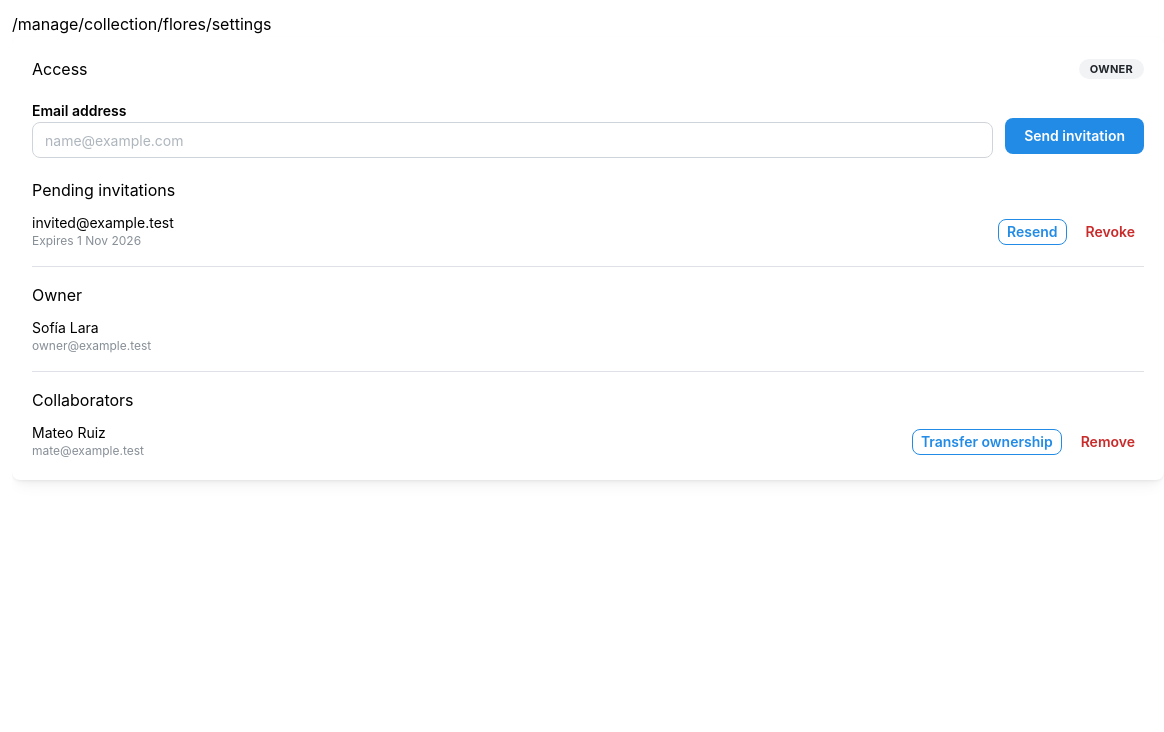
the owner's access card › reports a validation failure on the field and sends nothing
Type "not-an-email" into the field labelled "Email address" at (513, 140), box x1=32 y1=122 x2=993 y2=158
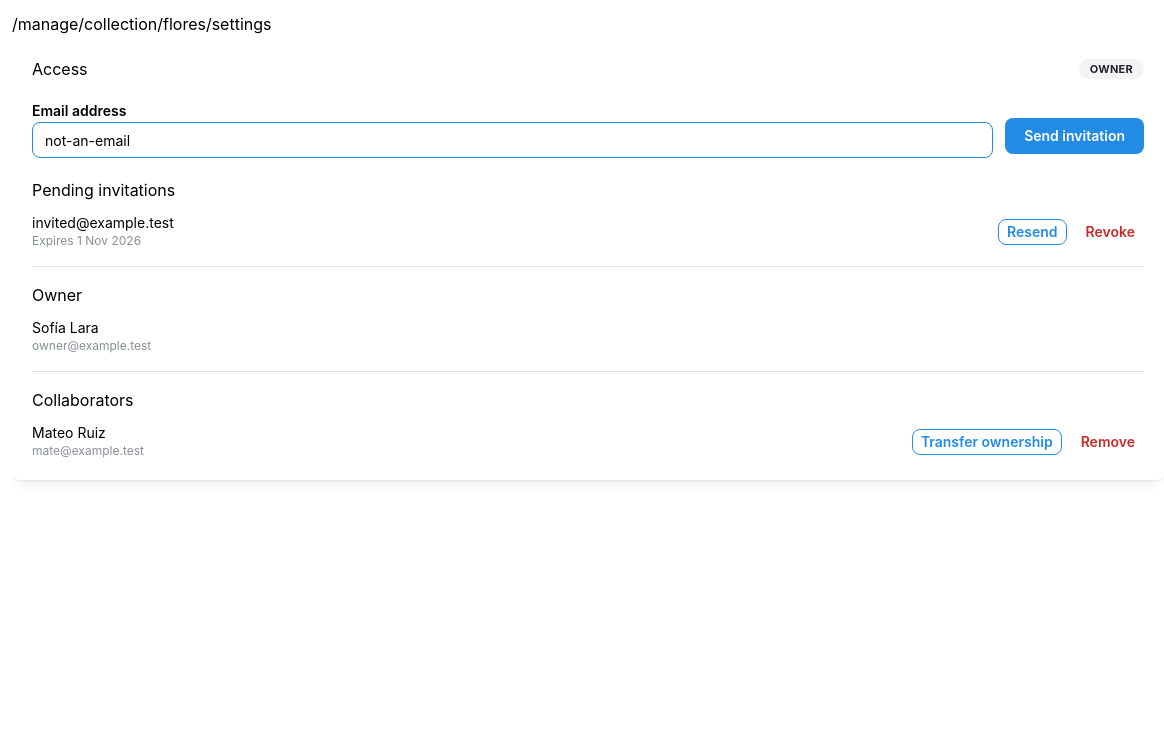
Click the button "Send invitation" at (1075, 136), box x1=1005 y1=118 x2=1144 y2=154
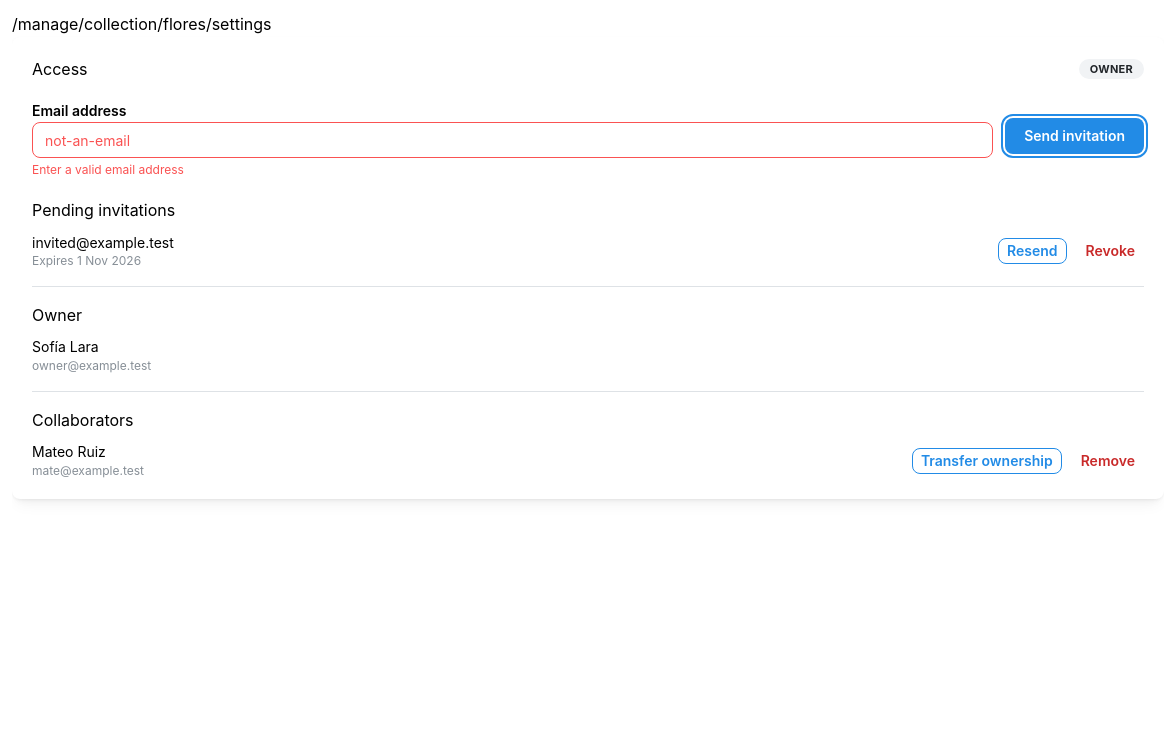
Now the text "Enter a valid email address" is shown, box x1=32 y1=162 x2=184 y2=177
